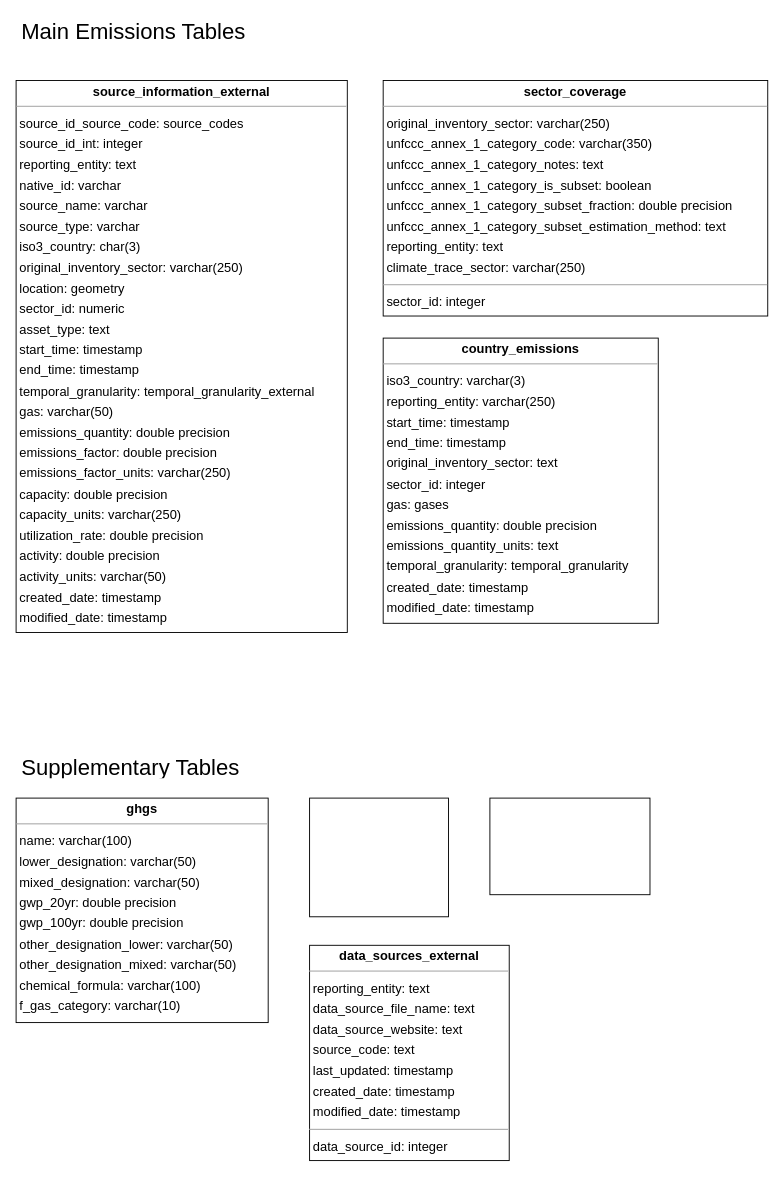
Some shapes in this 784 by 1177 pixel diagram are drawn without their labels. Here are the shapes that lost their labels. From the top down, the centre of each, then its label:
(x=378, y=857): countries iso3: varchar(3) name: varchar(250) annex: text iso2: varchar(2)
(x=569, y=846): unfccc_codes code: varchar(20) description: text internal_code: boolean
